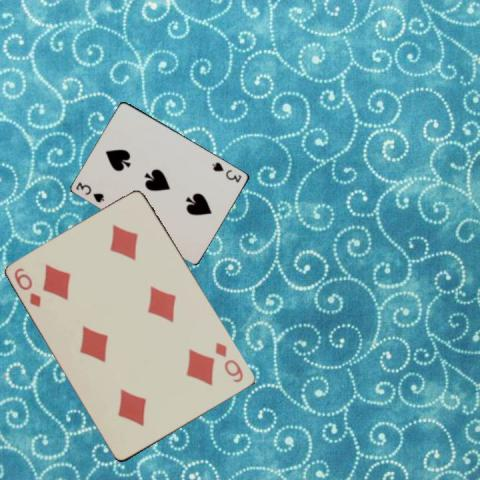3s: (73, 179, 106, 204), (210, 159, 243, 183)
6d: (212, 339, 245, 385), (12, 265, 44, 309)
